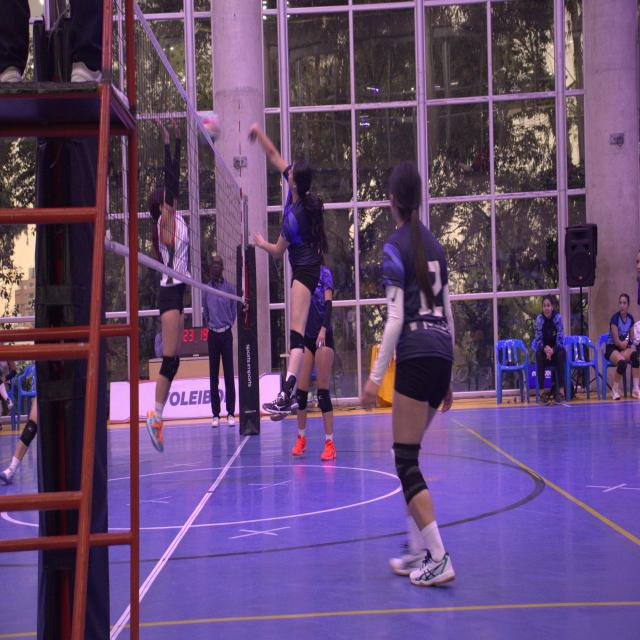volleyball: (199, 111, 222, 141)
